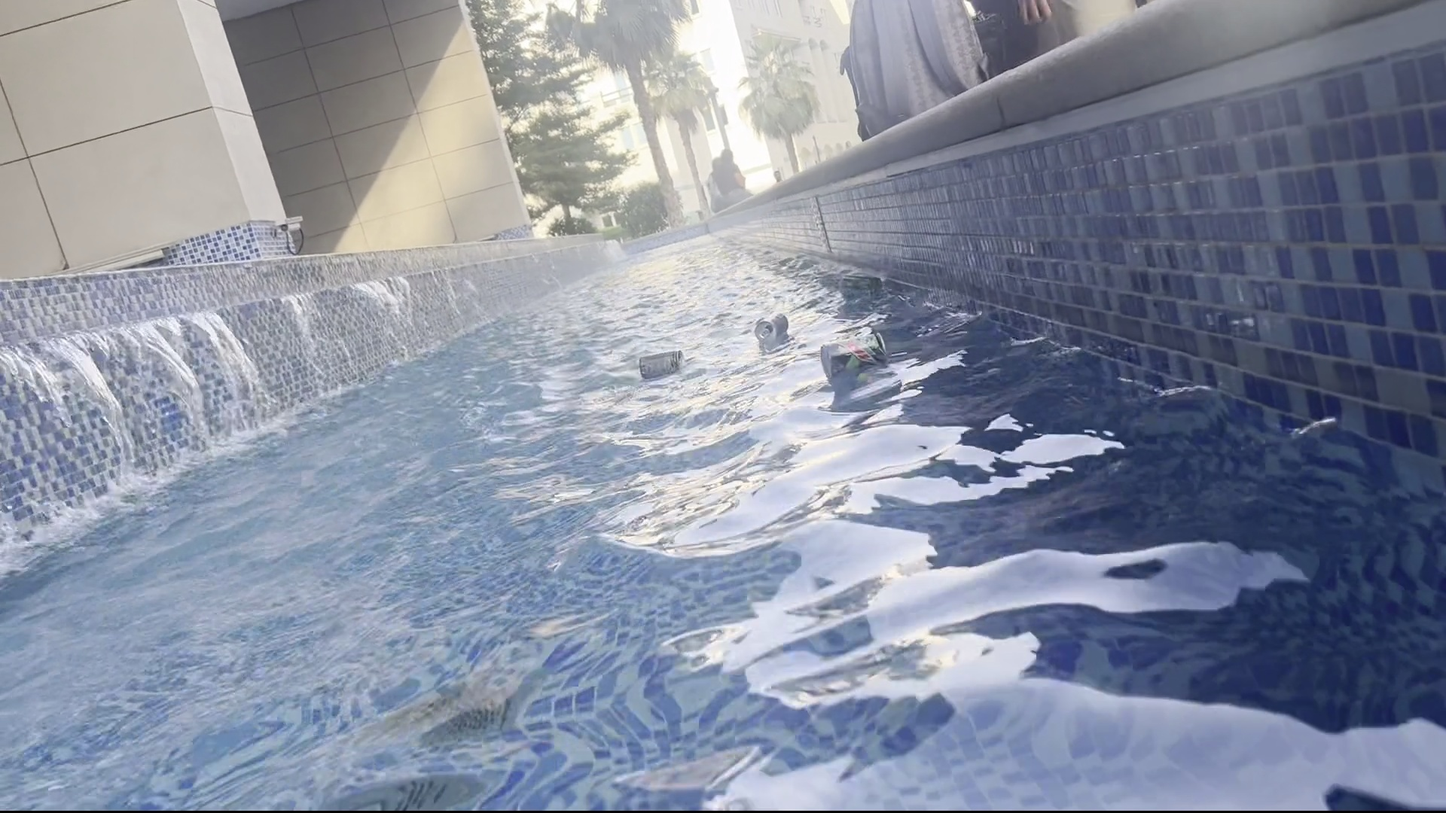debris: (811, 331, 891, 377), (637, 346, 689, 379), (749, 309, 792, 346)
